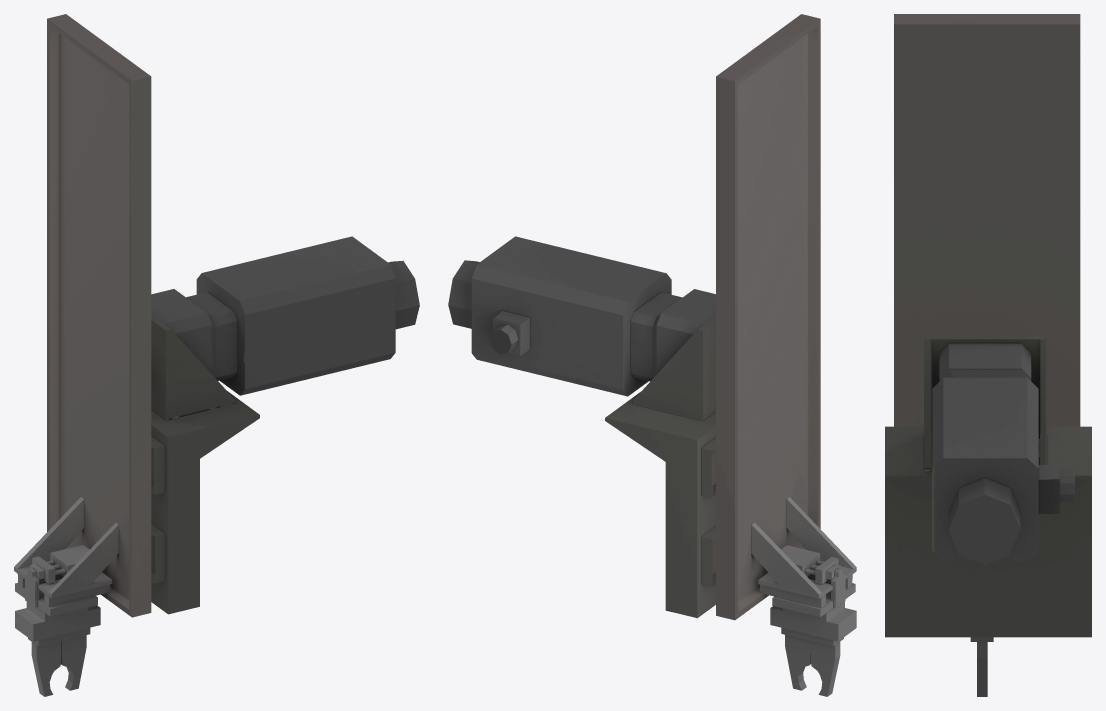
File: Lali_robot_01.glb
3 views of the same model, side by side, from view 1: azimuth 30°, elevation 25°; view 2: azimuth 150°, elevation 25°; view 3: azimuth 270°, elevation 25° (orthographic). The views are drawn at different scales.
Parts seen in each view (by area): view 1: r2, r1; view 2: r2, r1; view 3: r2, r1.
Boxes of the visible parts, x1=… form: r2: x1=14, y1=14, x2=151, y2=696; r1: x1=151, y1=236, x2=419, y2=614; r2: x1=716, y1=14, x2=856, y2=696; r1: x1=448, y1=236, x2=715, y2=618; r2: x1=894, y1=14, x2=1080, y2=696; r1: x1=885, y1=336, x2=1091, y2=637.
Size of the model in its own units: 8.32 by 13.21 by 3.58.
Materials: 1 (1 with a texture image).
